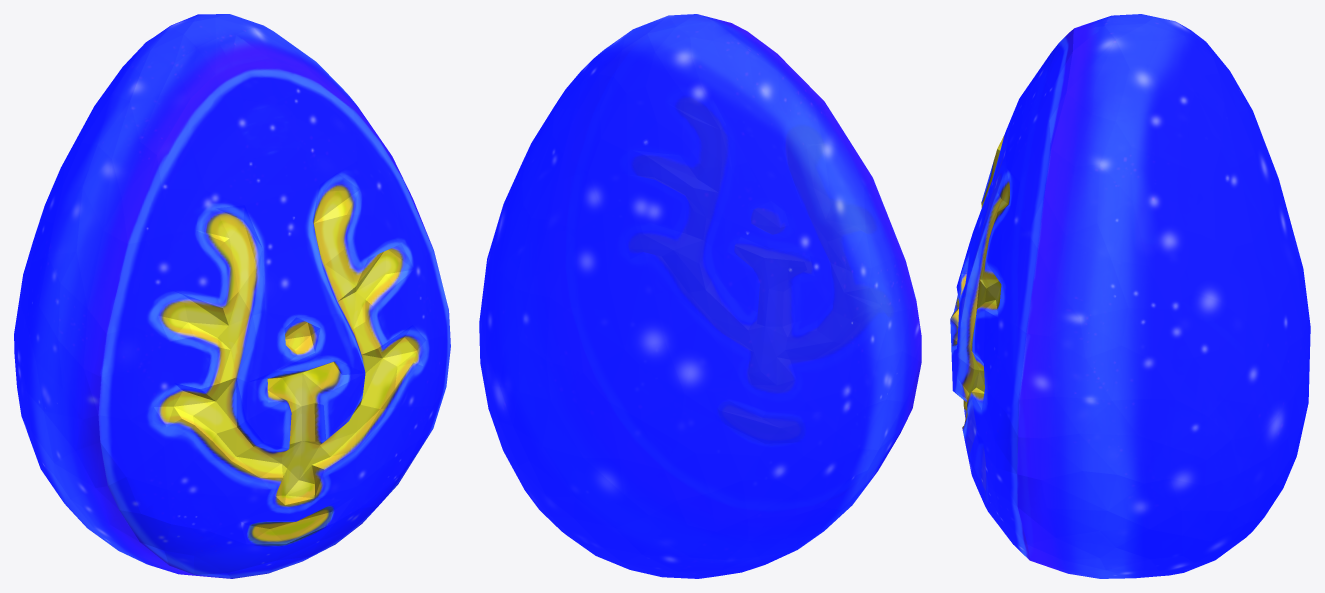
File: stone.glb
3 views of the same model, side by side, from view 1: azimuth 30°, elevation 25°; view 2: azimuth 150°, elevation 25°; view 3: azimuth 270°, elevation 25° (orthographic).
Visible parts, largest first — view 1: Object_2; view 2: Object_2; view 3: Object_2.
Boxes of the visible parts, left/top/right/bottom form: Object_2: left=14, top=14, right=450, bottom=578; Object_2: left=479, top=14, right=921, bottom=578; Object_2: left=950, top=14, right=1310, bottom=578.
Size of the model in its own units: 1.76 by 2.38 by 1.46.
Materials: 1 (1 with a texture image).
